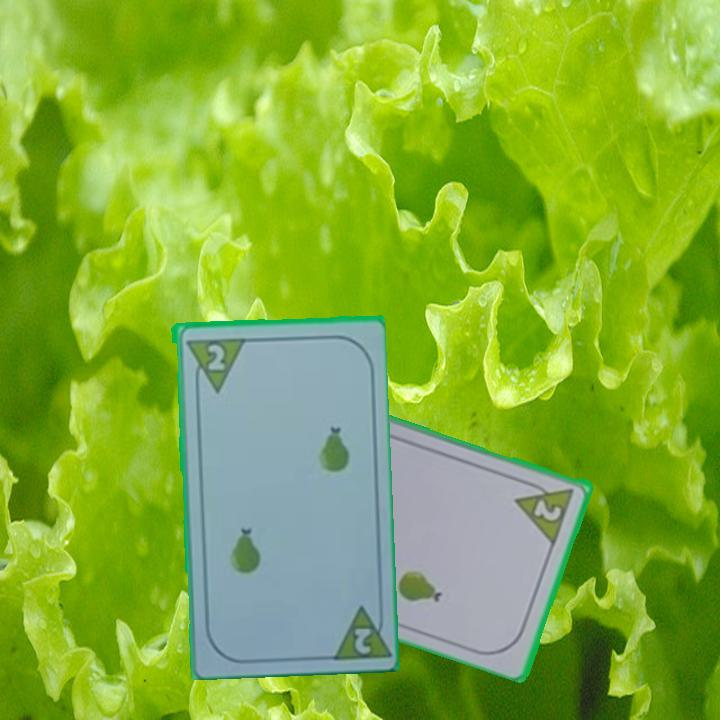2p: (511, 475, 578, 546), (325, 598, 390, 661), (182, 334, 245, 395)
